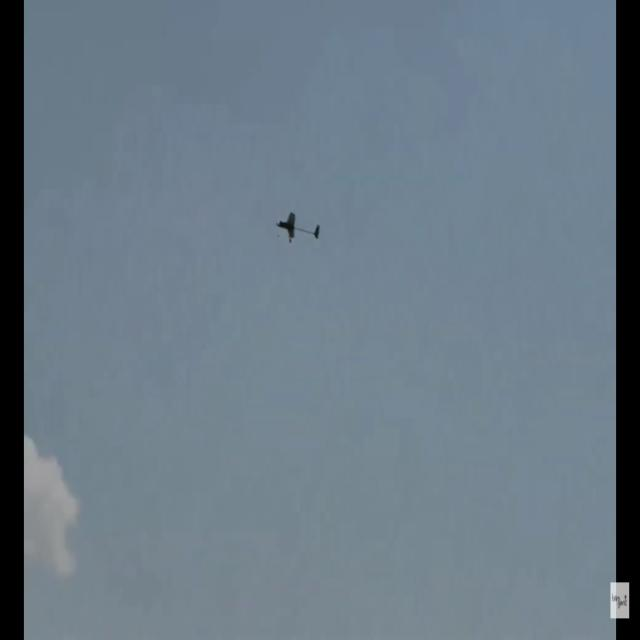iha: (275, 211, 320, 245)
